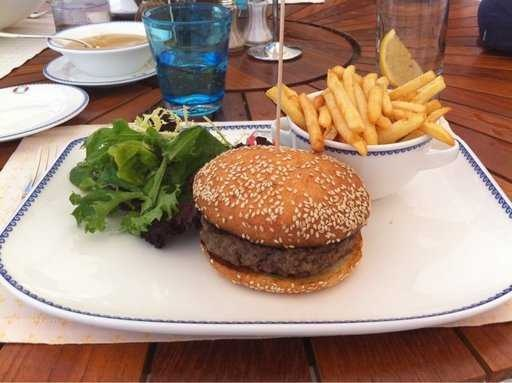hamburger: (200, 138, 353, 288)
